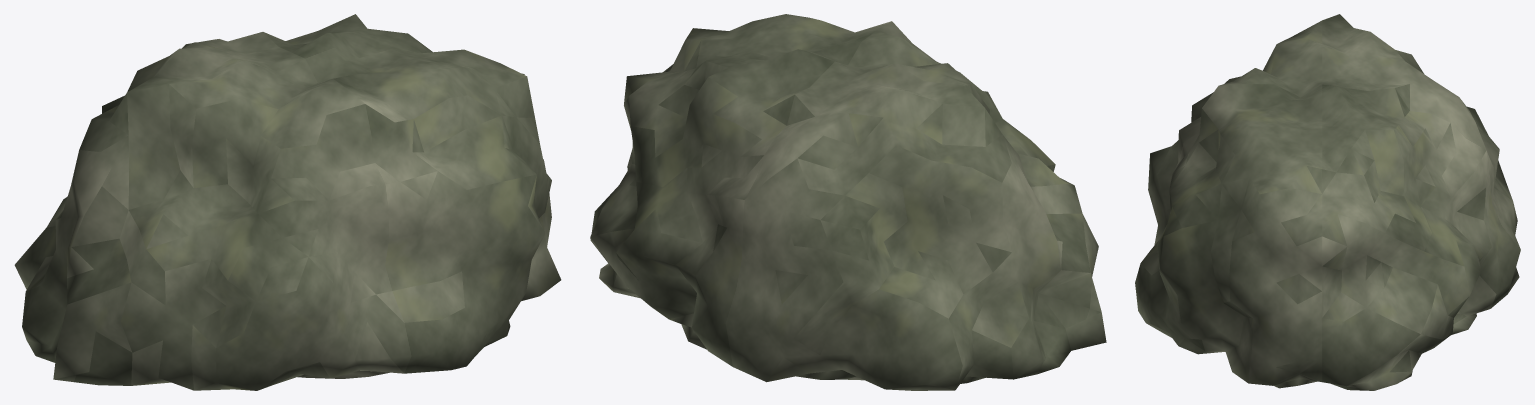
Rendered from Rock_Mossy_2.gltf.
3 renders of one model, left to right at view 1: azimuth 30°, elevation 25°; view 2: azimuth 150°, elevation 25°; view 3: azimuth 270°, elevation 25°, orthographic. The views are drawn at different scales.
Parts seen in each view (by area): view 1: Rock_Mossy_2; view 2: Rock_Mossy_2; view 3: Rock_Mossy_2.
Boxes of the visible parts, x1,y1,x2,y2 form: Rock_Mossy_2: (14,14,561,390); Rock_Mossy_2: (590,14,1106,390); Rock_Mossy_2: (1135,14,1520,390).
Size of the model in its own units: 4 by 2.14 by 3.1.
Materials: 1 (1 with a texture image).
